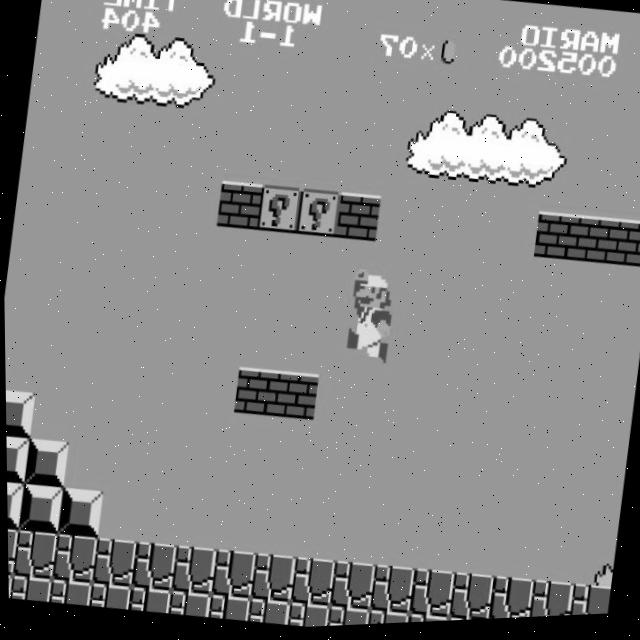1- brick_block: (231, 367, 279, 420), (532, 215, 580, 267), (271, 372, 319, 424), (572, 219, 619, 271), (334, 194, 381, 246), (215, 182, 262, 234), (613, 224, 640, 275)
13- mystery_block: (294, 190, 342, 242), (255, 186, 302, 238)
17- undestructible_block: (406, 570, 454, 623), (287, 558, 335, 611), (128, 541, 176, 594), (208, 550, 256, 602), (168, 546, 216, 598), (49, 533, 97, 585), (367, 566, 414, 619), (327, 562, 374, 615), (248, 554, 295, 607), (89, 537, 136, 590), (10, 529, 57, 581), (446, 574, 493, 625), (485, 579, 532, 623), (525, 583, 572, 622), (566, 587, 609, 620), (46, 578, 91, 608), (245, 599, 289, 629), (205, 595, 249, 625), (7, 574, 51, 604), (165, 591, 210, 620), (86, 583, 131, 612), (126, 587, 170, 616), (284, 603, 328, 630), (324, 607, 368, 629), (363, 612, 407, 628), (6, 525, 17, 576), (403, 616, 447, 626)
4- fire_mario: (343, 267, 400, 368)
9- hard_block: (55, 487, 103, 540), (15, 483, 63, 536), (21, 438, 69, 490), (5, 388, 35, 439), (5, 433, 29, 485), (6, 478, 23, 530)
